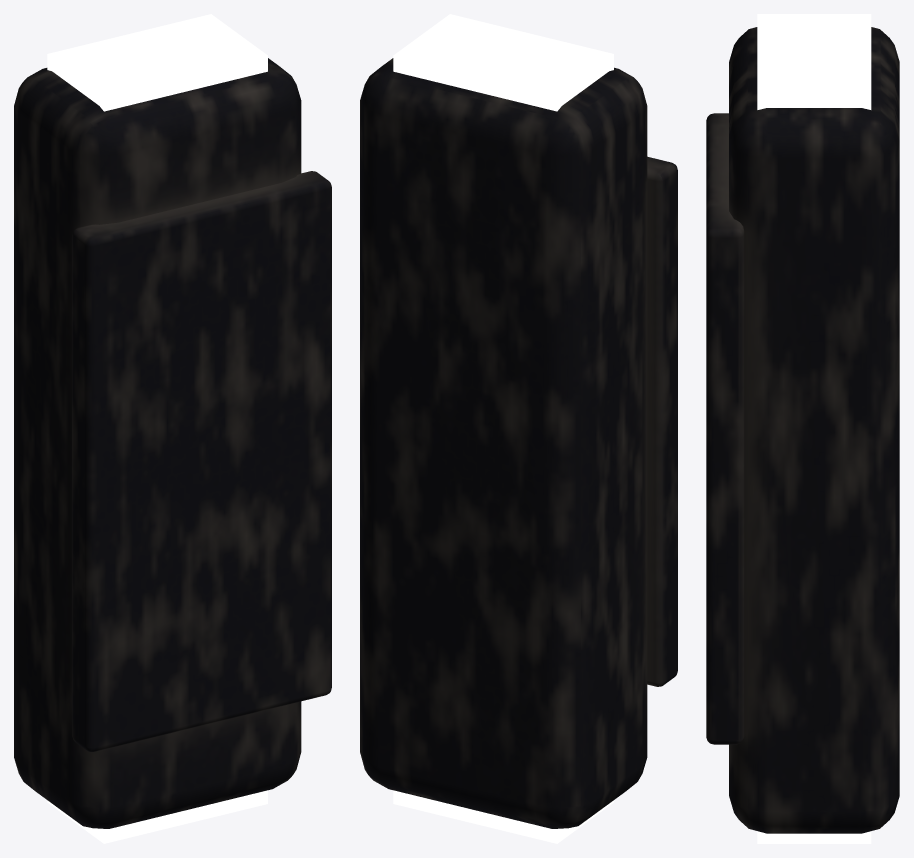
File: klub_kinkiet.glb
3 views of the same model, side by side, from view 1: azimuth 30°, elevation 25°; view 2: azimuth 150°, elevation 25°; view 3: azimuth 270°, elevation 25° (orthographic).
Visible parts, largest first — view 1: Kinkiet, SwiatloLed; view 2: Kinkiet, SwiatloLed; view 3: Kinkiet, SwiatloLed.
Boxes of the visible parts, x1,y1,x2,y2 form: Kinkiet: [14, 58, 331, 828]; SwiatloLed: [47, 14, 267, 843]; Kinkiet: [360, 58, 677, 828]; SwiatloLed: [393, 14, 613, 843]; Kinkiet: [706, 27, 899, 833]; SwiatloLed: [757, 14, 871, 843].
Size of the model in its own units: 0.15 by 0.436 by 0.102.
2 materials, 1 textured.
